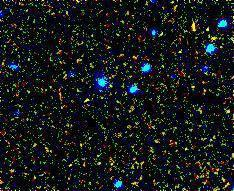star: (177, 14, 207, 44)
